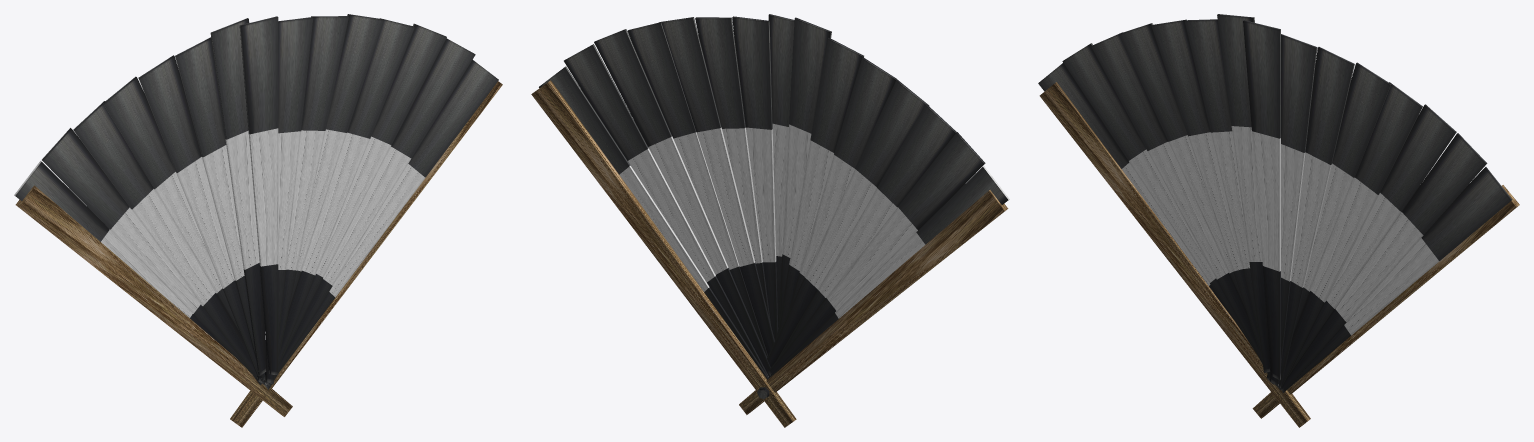
The model's file is range_fan.FBX.
3 renders of one model, left to right at view 1: azimuth 30°, elevation 25°; view 2: azimuth 150°, elevation 25°; view 3: azimuth 330°, elevation 25°, orthographic. The views are drawn at different scales.
Parts seen in each view (by area): view 1: Box002, Box001; view 2: Box002, Box001; view 3: Box002, Box001.
Part boxes in pixels (x1,y1,x2,y2): Box002: (14,14,498,389); Box001: (15,81,502,427); Box002: (539,14,1009,379); Box001: (531,80,1008,427); Box002: (1038,14,1512,392); Box001: (1039,82,1519,427).
Bounding box in the file's own units: 16592 × 13460 × 835.
3 materials, 3 textured.
